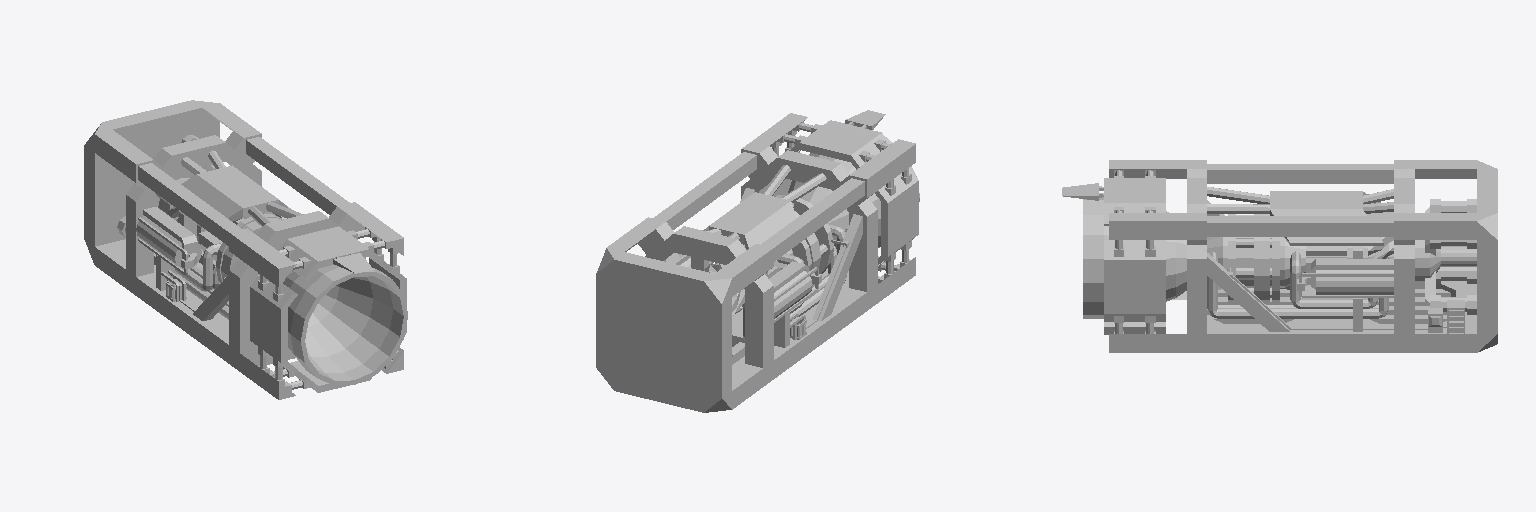
The model's file is lpw2.obj.
The picture shows the model from 3 angles: view 1: azimuth 30°, elevation 25°; view 2: azimuth 150°, elevation 25°; view 3: azimuth 270°, elevation 25°; orthographic projection.
Parts seen in each view (by area): view 1: Frame, Engine, ShroudH, ShroudV, Cover, Center, SuspensionCoverFront; view 2: Frame, ShroudH, Cover, ShroudV, Center, Engine, SuspensionCoverFront; view 3: Frame, Center, ShroudH, Engine, Cover, ShroudV, SuspensionCoverFront, Piston, SuspensionBackOuter, SuspensionBackCenter, SuspensionCoverBack, Flap (+1 smaller).
Part boxes in pixels (bbox=[...]): Frame: bbox=[84, 100, 403, 399]; Engine: bbox=[283, 265, 407, 385]; ShroudH: bbox=[250, 254, 406, 373]; ShroudV: bbox=[278, 226, 382, 392]; Cover: bbox=[181, 165, 287, 222]; Center: bbox=[158, 165, 283, 319]; SuspensionCoverFront: bbox=[248, 202, 303, 226]; Frame: bbox=[596, 113, 915, 412]; ShroudH: bbox=[773, 147, 918, 264]; Cover: bbox=[677, 192, 796, 256]; ShroudV: bbox=[790, 120, 889, 277]; Center: bbox=[712, 195, 846, 355]; Engine: bbox=[788, 137, 919, 248]; SuspensionCoverFront: bbox=[762, 165, 826, 202]; Frame: bbox=[1109, 160, 1497, 352]; Center: bbox=[1207, 199, 1440, 318]; ShroudH: bbox=[1104, 240, 1165, 322]; Engine: bbox=[1083, 197, 1186, 318]; Cover: bbox=[1270, 191, 1383, 245]; ShroudV: bbox=[1104, 176, 1165, 334]; SuspensionCoverFront: bbox=[1207, 187, 1269, 213]; Piston: bbox=[1254, 214, 1269, 302]; SuspensionBackOuter: bbox=[1441, 201, 1466, 311]; SuspensionBackCenter: bbox=[1441, 246, 1476, 266]; SuspensionCoverBack: bbox=[1363, 189, 1393, 213]; Flap: bbox=[1062, 183, 1105, 200].
Bounding box in the file's own units: 7 × 7.06 × 21.